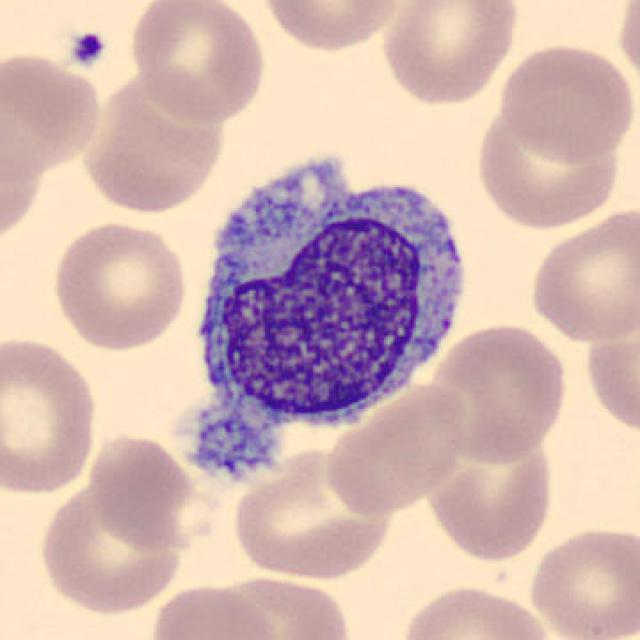Monocyte: (174, 150, 478, 455)
Platelets: (66, 28, 110, 71)
RBC: (71, 64, 239, 225), (228, 441, 396, 584), (36, 474, 190, 619), (423, 319, 571, 466), (322, 377, 471, 517), (471, 102, 628, 231), (48, 215, 192, 353), (423, 425, 558, 564), (126, 0, 270, 125), (494, 39, 636, 164), (0, 331, 101, 497), (524, 203, 638, 347), (84, 428, 214, 554), (377, 0, 523, 108), (0, 48, 105, 178), (523, 522, 638, 640), (202, 571, 356, 640), (394, 582, 556, 640), (583, 293, 640, 439), (258, 0, 407, 55), (147, 580, 281, 640), (615, 0, 640, 92)
